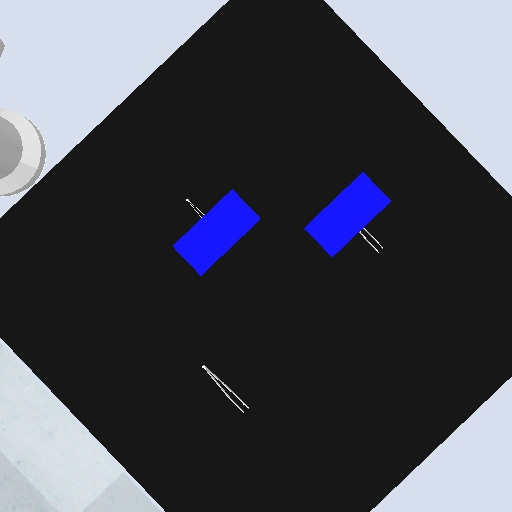pinza: (199, 362, 251, 416), (358, 224, 386, 255), (183, 196, 207, 222)
